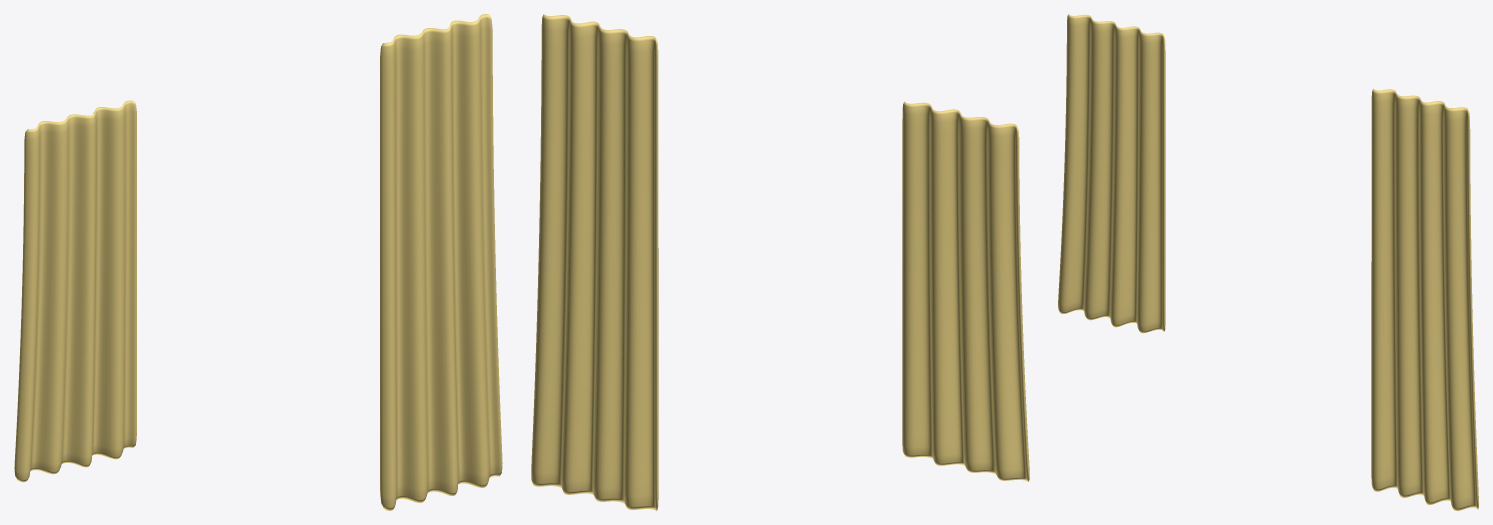
File: curtain.glb
3 views of the same model, side by side, from view 1: azimuth 30°, elevation 25°; view 2: azimuth 150°, elevation 25°; view 3: azimuth 330°, elevation 25° (orthographic). The views are drawn at different scales.
Visible parts, largest first — view 1: curtain_b, curtain_a; view 2: curtain_b, curtain_a; view 3: curtain_b, curtain_a.
Boxes of the visible parts, box(x1,y1,x2,y2) form: curtain_b: box(380, 14, 502, 510); curtain_a: box(14, 100, 136, 482); curtain_b: box(531, 14, 658, 510); curtain_a: box(902, 101, 1029, 481); curtain_b: box(1371, 89, 1478, 510); curtain_a: box(1058, 14, 1165, 333).
Size of the model in its own units: 1.82 by 1.66 by 0.066.
